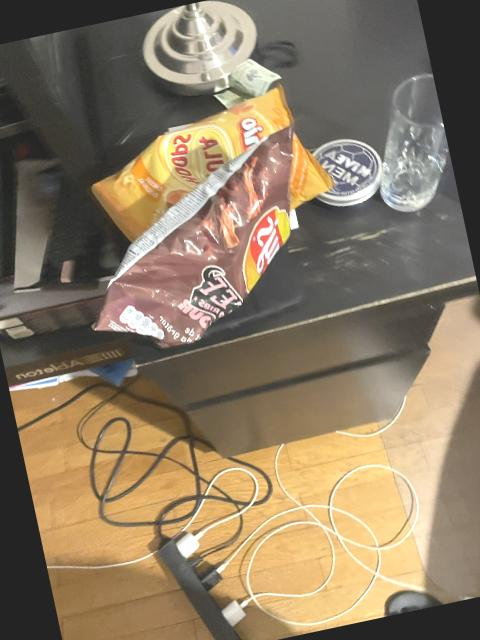Chio Hula Hoops Cheese 70g: (80, 84, 316, 255)
Lays Beef Grilled Ribs 125g: (62, 119, 336, 362)
